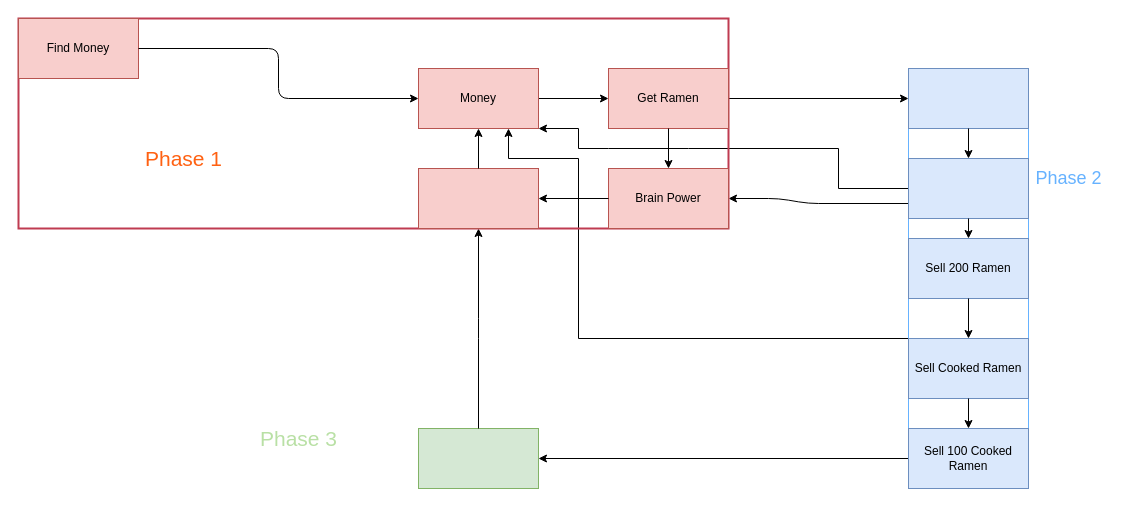
Some shapes in this 1125 by 506 pixel diagram are drawn without their labels. Here are the shapes that lost their labels. From the top down, the centre of each, then its label:
(968,98): 500 Ramen
(478,198): Money Bonus
(968,188): Sell Ramen
(478,458): Start Restraunt
